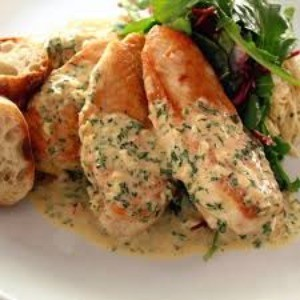chicken breast_brain food: (18, 64, 128, 218), (171, 75, 246, 225)
